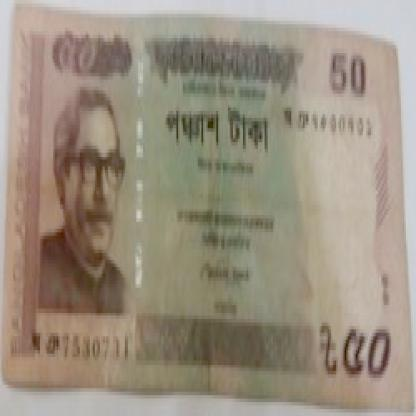Fifty taka: (338, 319, 389, 388), (55, 28, 96, 86)
